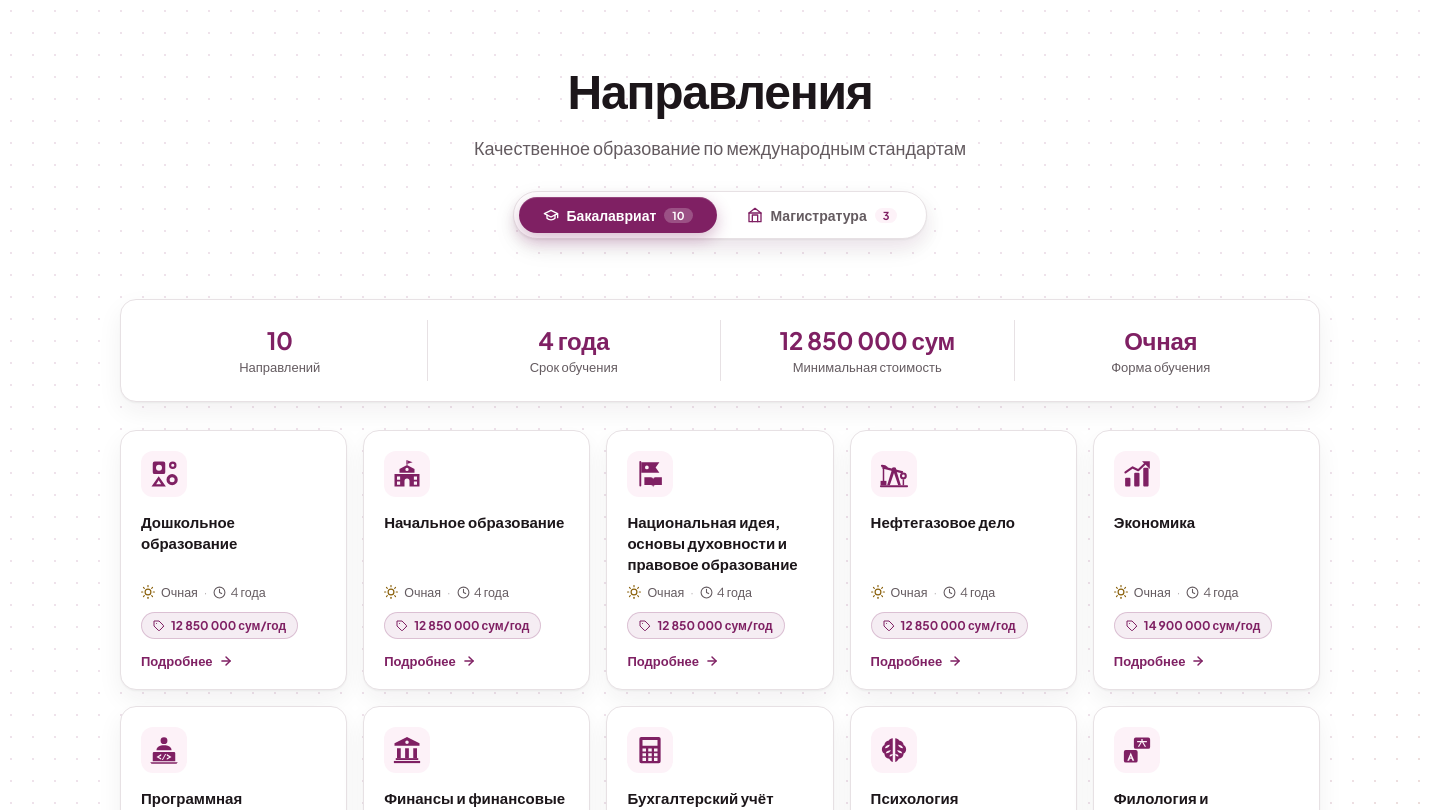
Test: Faculty (RU) › Magistratura tabi va modal: matn, fanlar, kasblar ruscha; Escape yopadi
Click the button "Магистратура 3" at (822, 215), box [722, 197, 921, 233]
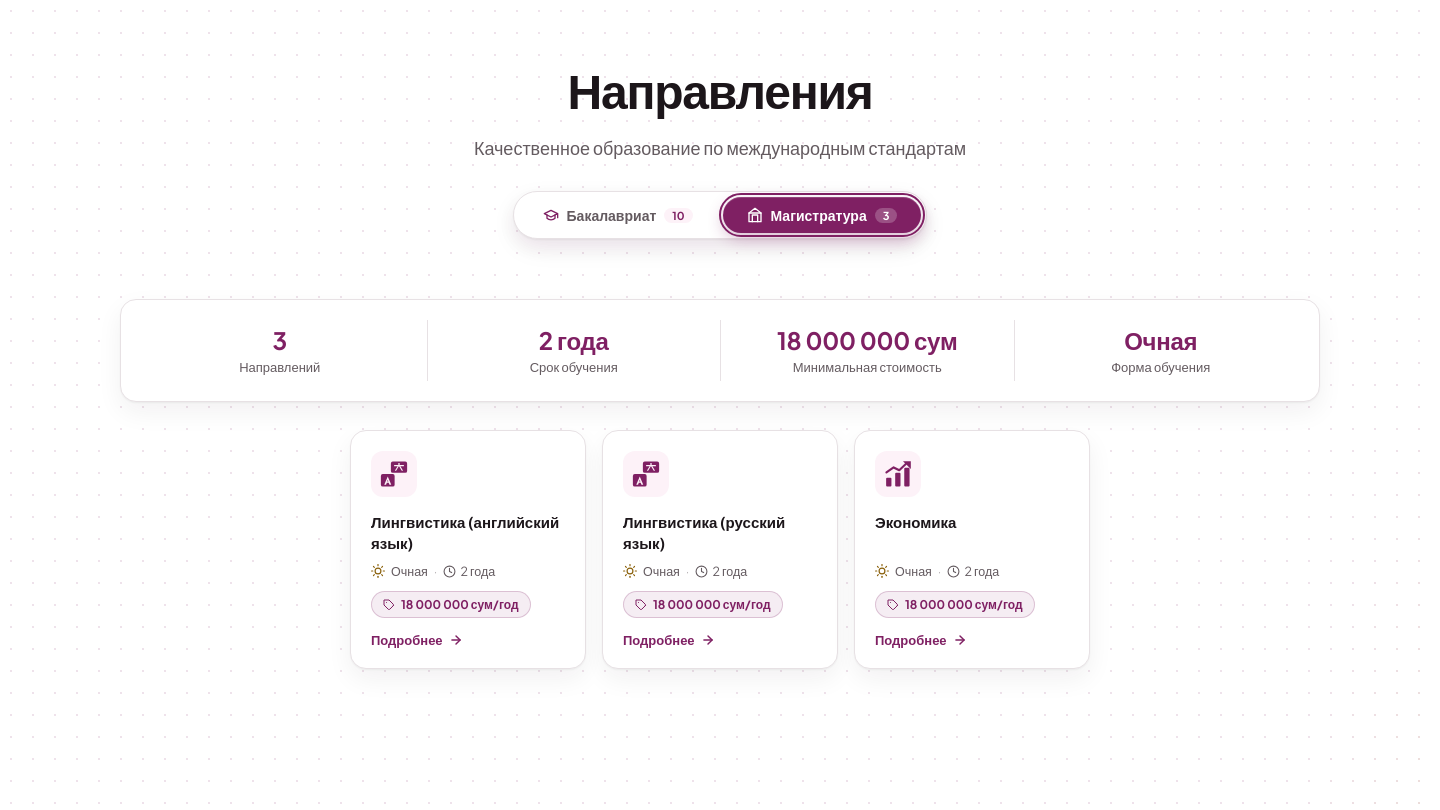
Expected: the button "Дошкольное образование" is gone
Expected: the text "2 года" is shown, [539, 325, 609, 355]
Click the heading "Лингвистика (английский язык)" at (468, 532), box [371, 511, 565, 553]
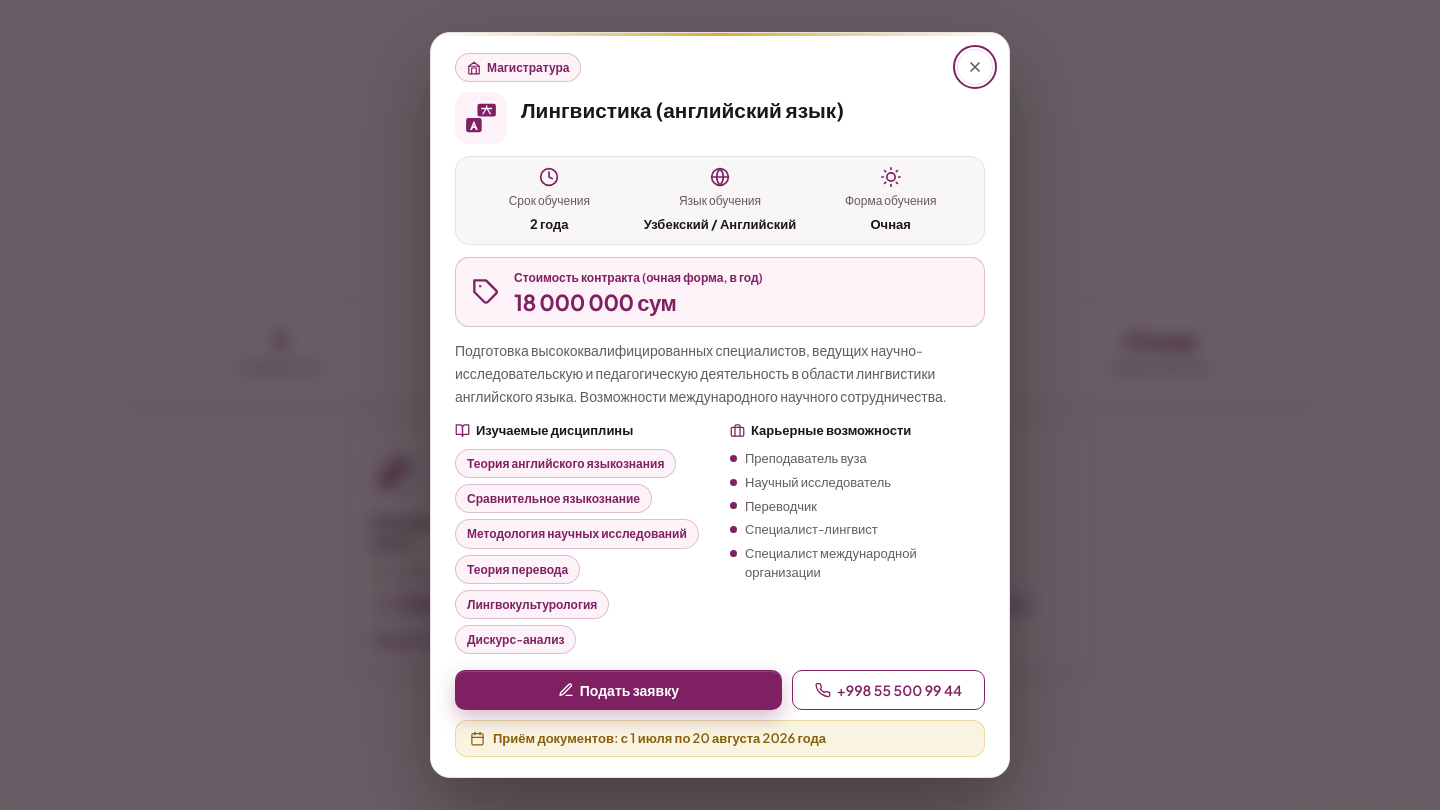
Expected: the heading "Лингвистика (английский язык)" is shown, [521, 92, 844, 123]
Expected: the text "Стоимость контракта (очная форма, в год)" is shown, [514, 268, 763, 288]
Expected: the text "18 000 000 сум" is shown, [514, 288, 676, 316]
Press Escape
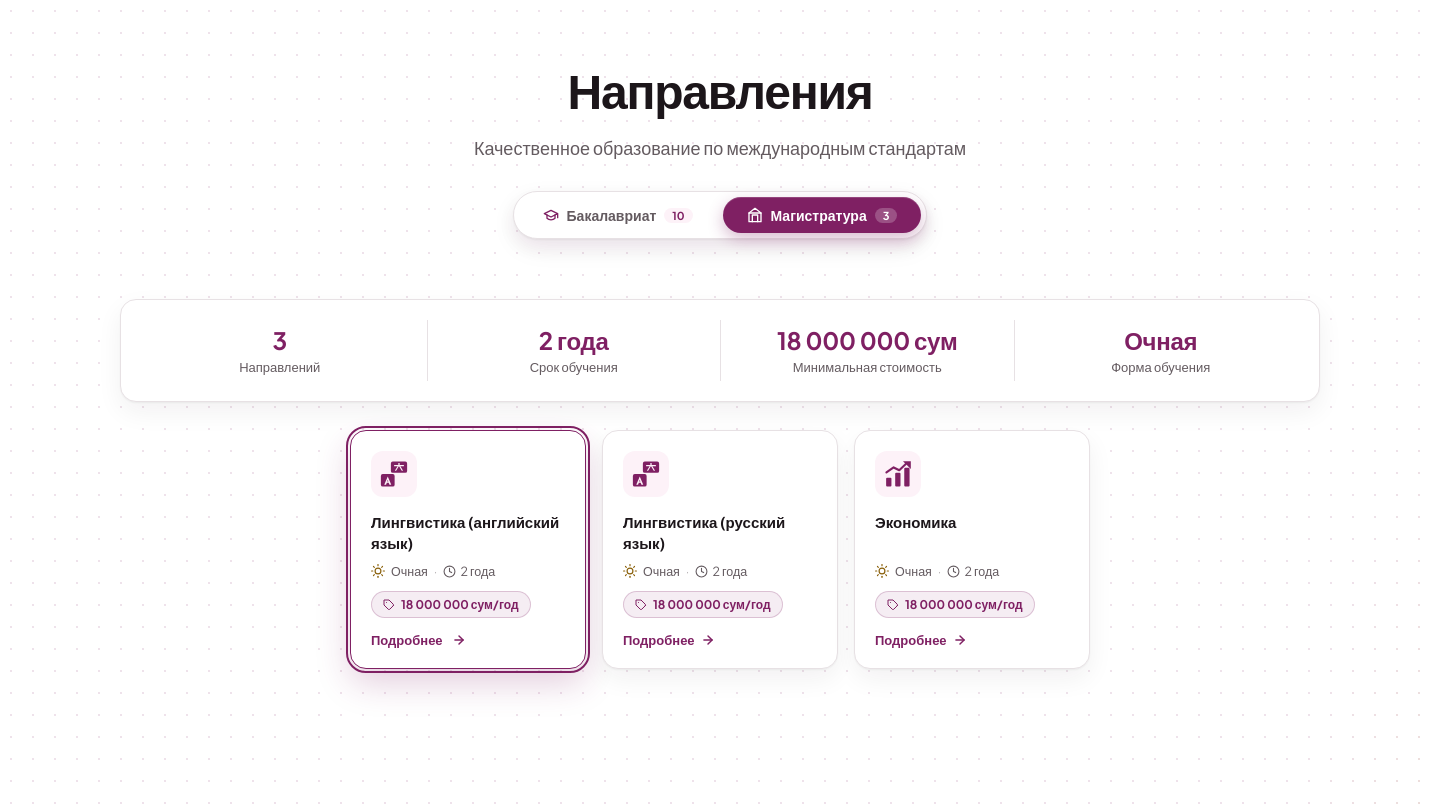
Expected: the dialog is gone
